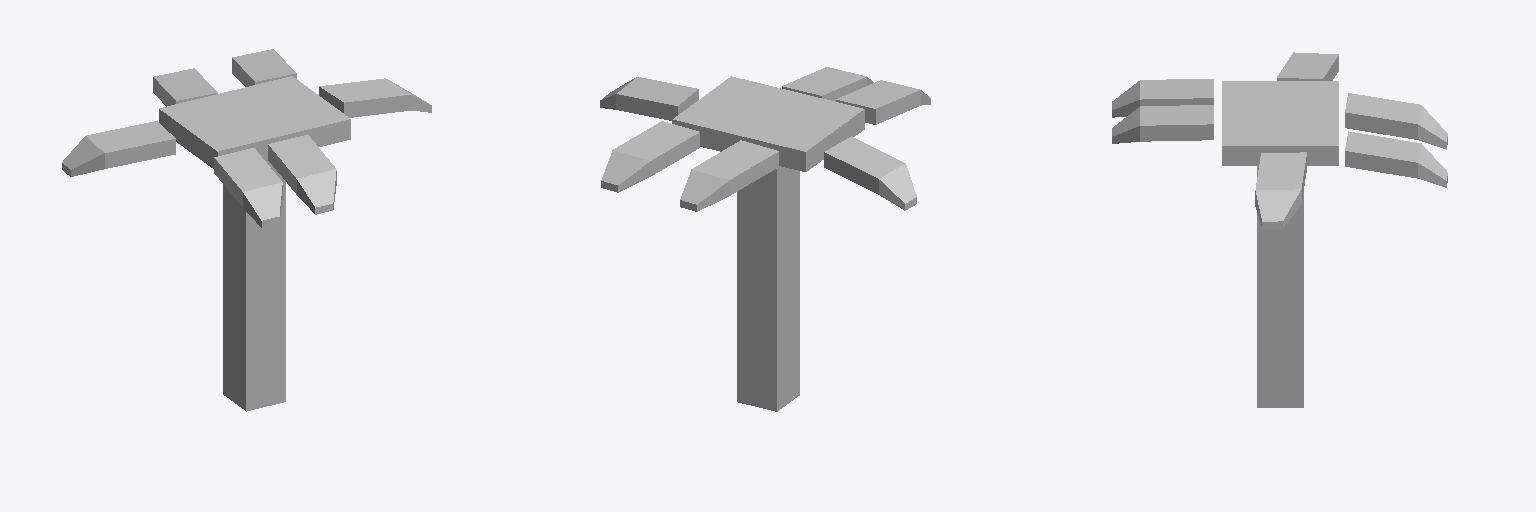
The model's file is palm_tree.obj.
3 views of the same model, side by side, from view 1: azimuth 30°, elevation 25°; view 2: azimuth 150°, elevation 25°; view 3: azimuth 270°, elevation 25° (orthographic).
Visible parts, largest first — view 1: Palm_Tree_Cube, Leaf.005_Cube.006, Leaf.001_Cube.002, Leaf_Cube.001, Leaf.002_Cube.003, Leaf.003_Cube.004, Leaf.004_Cube.005; view 2: Palm_Tree_Cube, Leaf.004_Cube.005, Leaf.003_Cube.004, Leaf.005_Cube.006, Leaf.002_Cube.003, Leaf.001_Cube.002, Leaf_Cube.001; view 3: Palm_Tree_Cube, Leaf.004_Cube.005, Leaf.003_Cube.004, Leaf_Cube.001, Leaf.002_Cube.003, Leaf.001_Cube.002, Leaf.005_Cube.006.
Boxes of the visible parts, x1=… form: Palm_Tree_Cube: x1=159, y1=76, x2=350, y2=411; Leaf.005_Cube.006: x1=62, y1=121, x2=175, y2=176; Leaf.001_Cube.002: x1=214, y1=148, x2=282, y2=227; Leaf_Cube.001: x1=268, y1=135, x2=336, y2=214; Leaf.002_Cube.003: x1=319, y1=78, x2=431, y2=117; Leaf.003_Cube.004: x1=232, y1=49, x2=296, y2=86; Leaf.004_Cube.005: x1=153, y1=68, x2=217, y2=106; Palm_Tree_Cube: x1=672, y1=76, x2=864, y2=411; Leaf.004_Cube.005: x1=680, y1=140, x2=778, y2=211; Leaf.003_Cube.004: x1=601, y1=121, x2=699, y2=192; Leaf.005_Cube.006: x1=824, y1=136, x2=916, y2=210; Leaf.002_Cube.003: x1=600, y1=77, x2=698, y2=120; Leaf.001_Cube.002: x1=836, y1=80, x2=930, y2=124; Leaf_Cube.001: x1=782, y1=67, x2=873, y2=101; Palm_Tree_Cube: x1=1222, y1=81, x2=1338, y2=407; Leaf.004_Cube.005: x1=1345, y1=93, x2=1447, y2=149; Leaf.003_Cube.004: x1=1345, y1=131, x2=1447, y2=187; Leaf_Cube.001: x1=1112, y1=105, x2=1213, y2=143; Leaf.002_Cube.003: x1=1255, y1=152, x2=1306, y2=228; Leaf.001_Cube.002: x1=1112, y1=79, x2=1213, y2=117; Leaf.005_Cube.006: x1=1277, y1=52, x2=1338, y2=80.
Size of the model in its own units: 7.67 by 6.23 by 6.68.